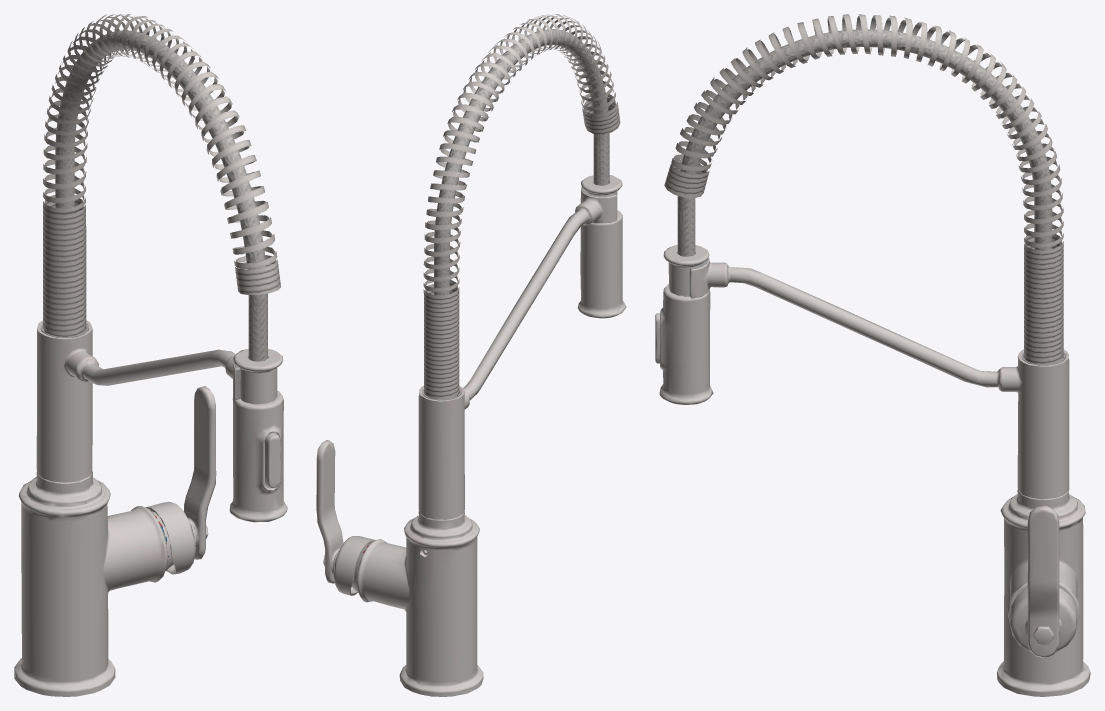
3 views of the same model, side by side, from view 1: azimuth 30°, elevation 25°; view 2: azimuth 150°, elevation 25°; view 3: azimuth 270°, elevation 25° (orthographic). The views are drawn at different scales.
Parts seen in each view (by area): view 1: ASY_ART_50602305_S01_NV01; view 2: ASY_ART_50602305_S01_NV01; view 3: ASY_ART_50602305_S01_NV01.
Boxes of the visible parts, x1=… form: ASY_ART_50602305_S01_NV01: x1=14, y1=14, x2=287, y2=696; ASY_ART_50602305_S01_NV01: x1=316, y1=14, x2=626, y2=696; ASY_ART_50602305_S01_NV01: x1=655, y1=14, x2=1090, y2=696.
Size of the model in its own units: 0.1298 by 0.4702 by 0.2804.
2 materials, 2 textured.
